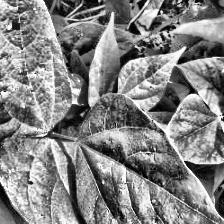Bean Rust: (78, 96, 224, 224), (0, 139, 134, 224), (0, 0, 74, 145)
